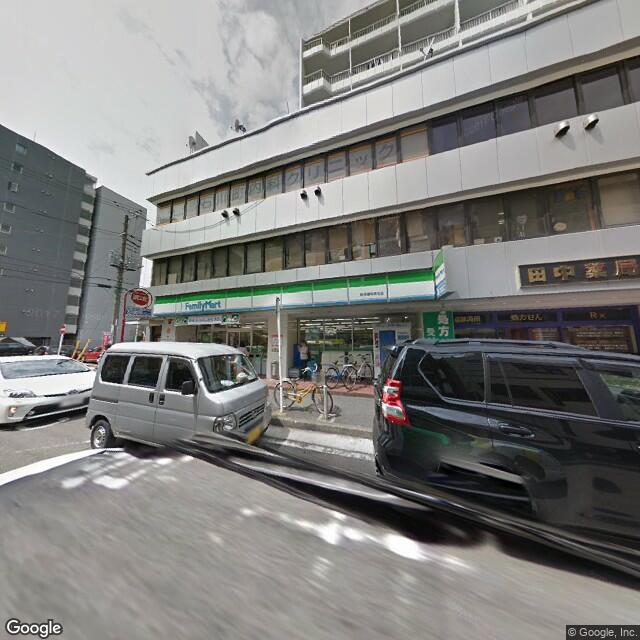family_mart: (154, 269, 432, 312), (434, 250, 446, 291)
